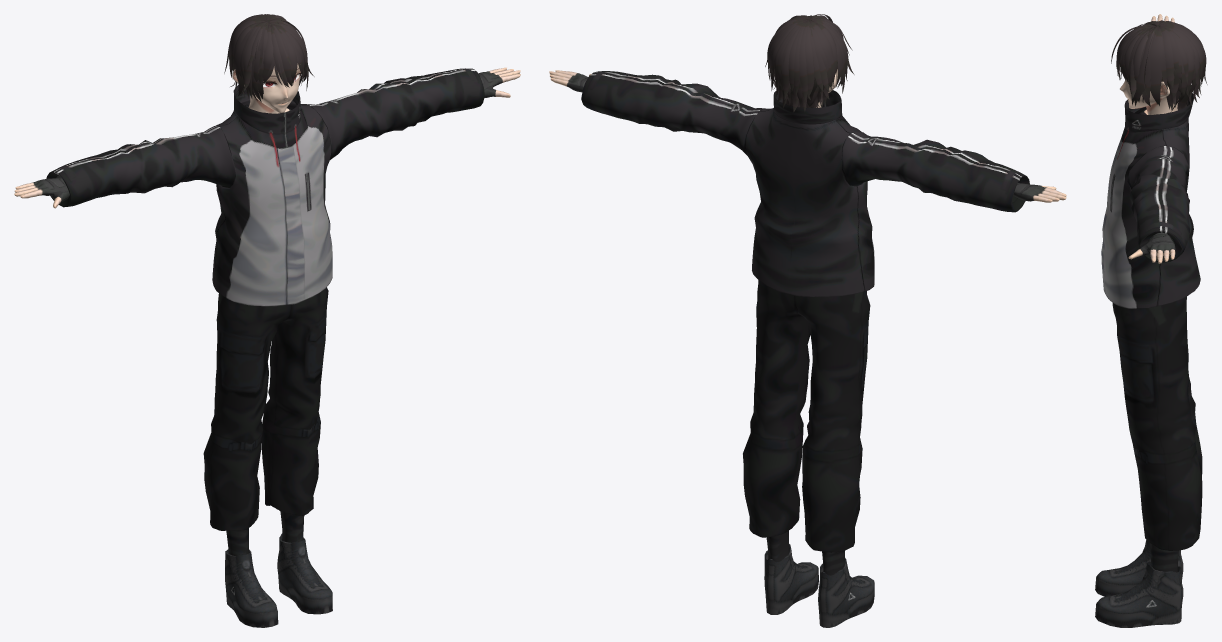
File: human.fbx
3 views of the same model, side by side, from view 1: azimuth 30°, elevation 25°; view 2: azimuth 150°, elevation 25°; view 3: azimuth 270°, elevation 25° (orthographic). The views are drawn at different scales.
Parts seen in each view (by area): view 1: node_id123 (×2), node_id126, node_id118; view 2: node_id123 (×2), node_id126; view 3: node_id123 (×2), node_id126, node_id118.
Boxes of the visible parts, x1,y1,x2,y2 form: node_id123 (×2): (14,21,520,627); node_id126: (224,14,314,102); node_id118: (232,63,300,112); node_id123 (×2): (549,70,1066,627); node_id126: (765,14,854,111); node_id123 (×2): (1095,14,1202,627); node_id126: (1111,20,1207,111); node_id118: (1120,79,1169,108).
Bounding box in the file's own units: 0.467 × 0.512 × 0.0898.
7 materials, 7 textured.
